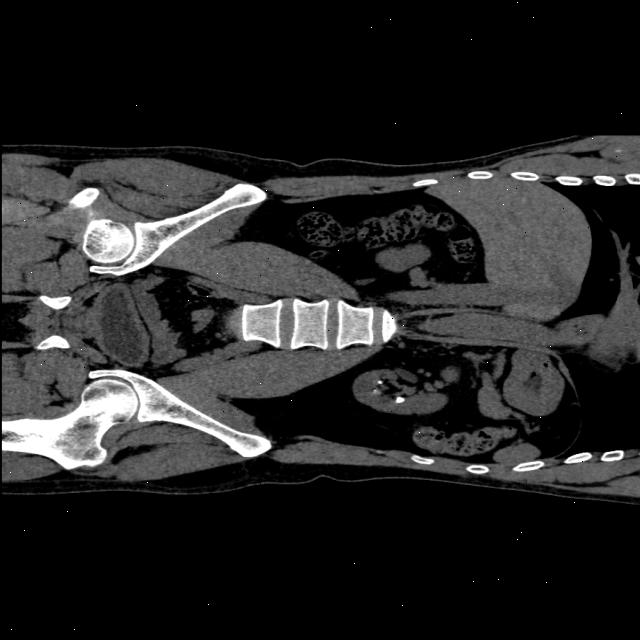kidneystone: (395, 396, 404, 404)
